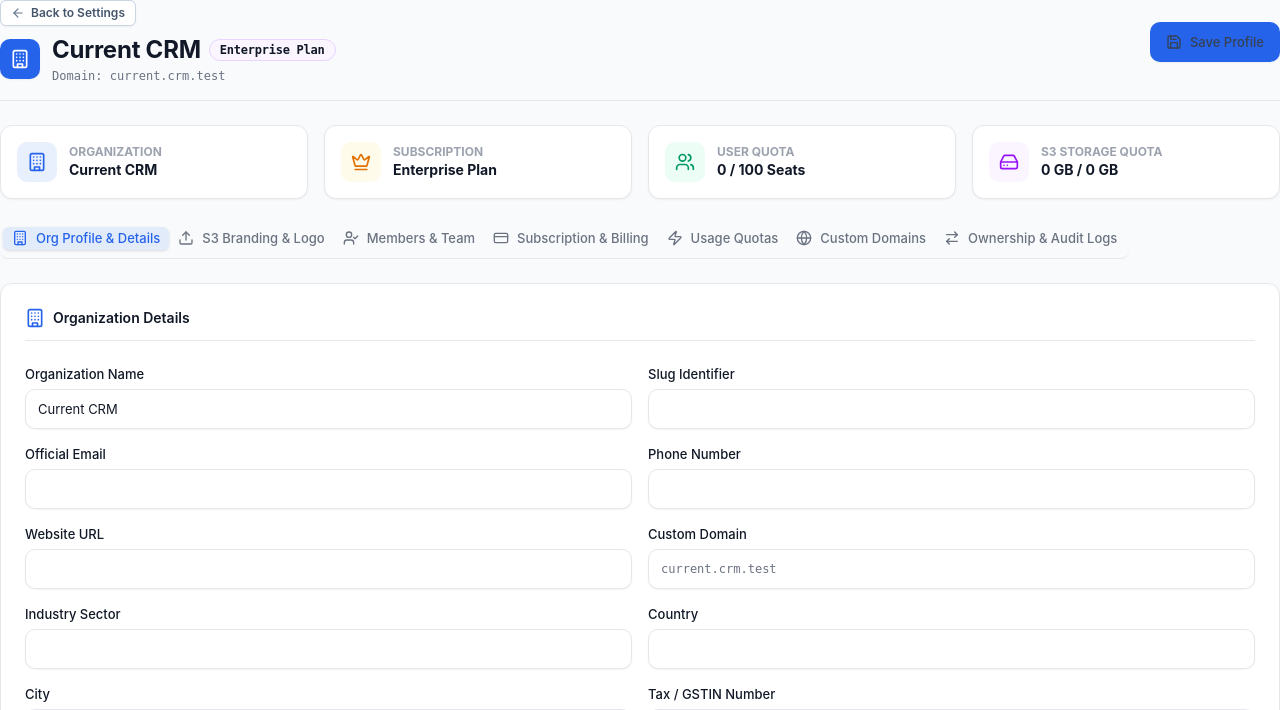
Test: Organization detail route and current organization mode › shows safe cancellation errors from the backend
Press the mouse on the tab "Subscription & Billing": (571, 238) [484,226,658,250]
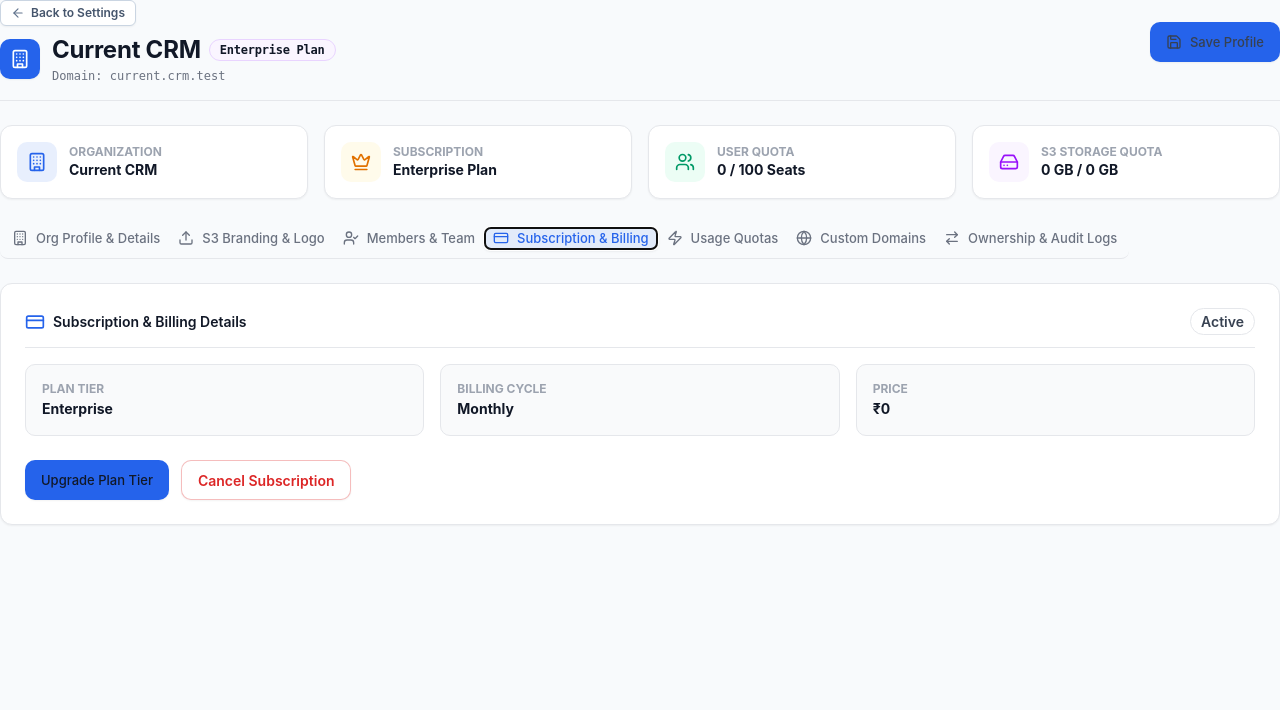
Click the button "Cancel Subscription": (266, 480) [181,460,352,500]
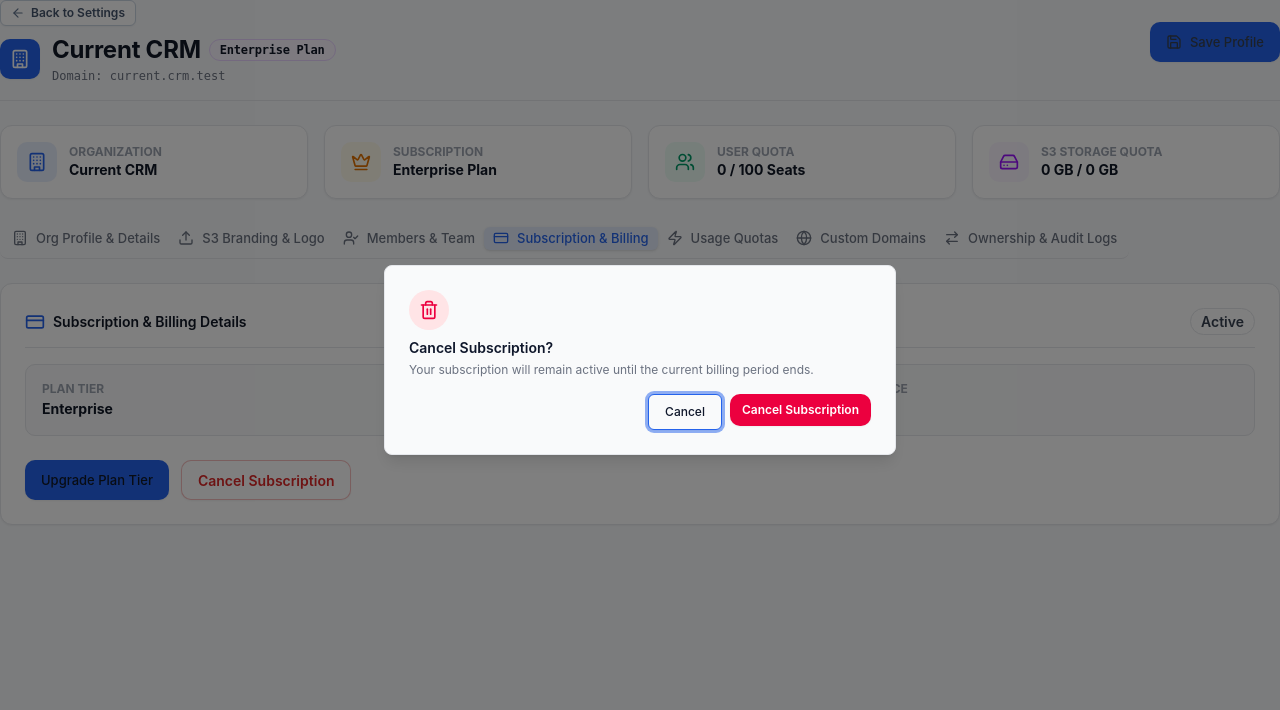
Click the button "Cancel Subscription": (800, 410) [730,394,871,426]
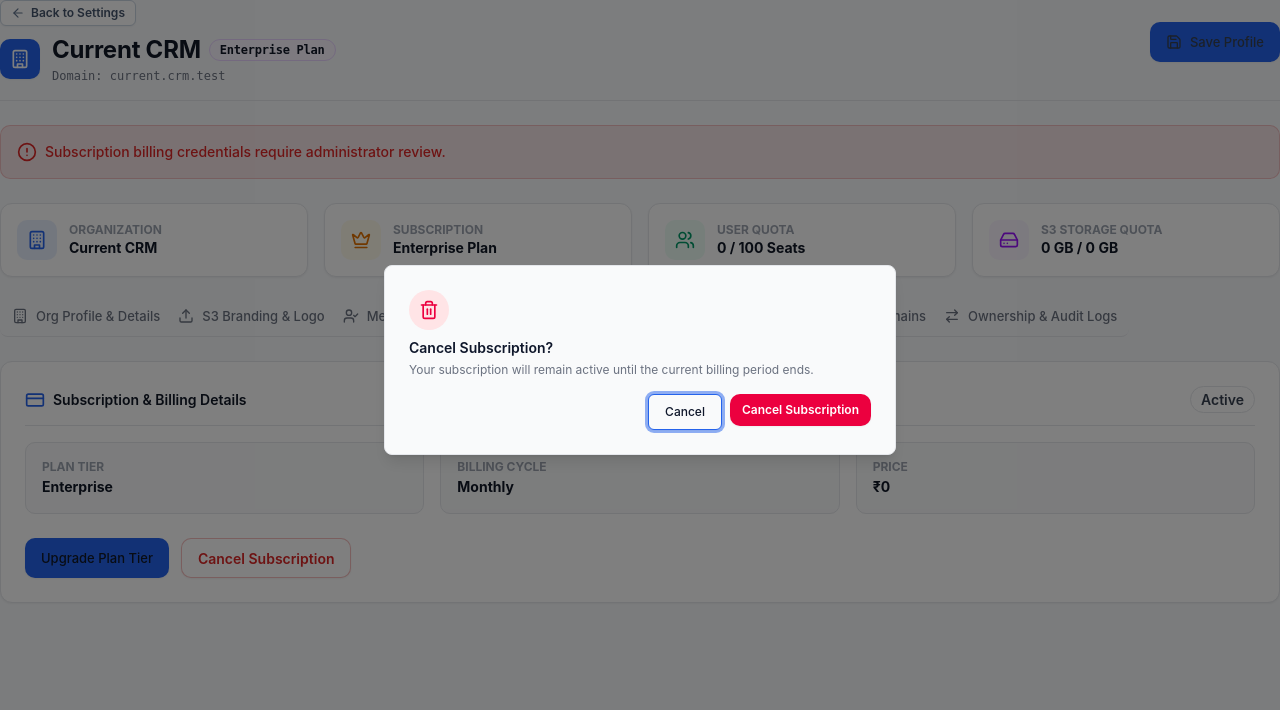
Now the text "₹0" is shown, box [873,478,890,495]
Now the text "Subscription billing credentials require administrator review." is shown, box [45,142,446,162]
